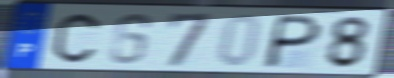0: (215, 12, 265, 69)
6: (107, 12, 153, 66)
7: (165, 10, 214, 69)
8: (325, 15, 373, 70)
C: (51, 11, 102, 65)
P: (260, 13, 325, 71)
